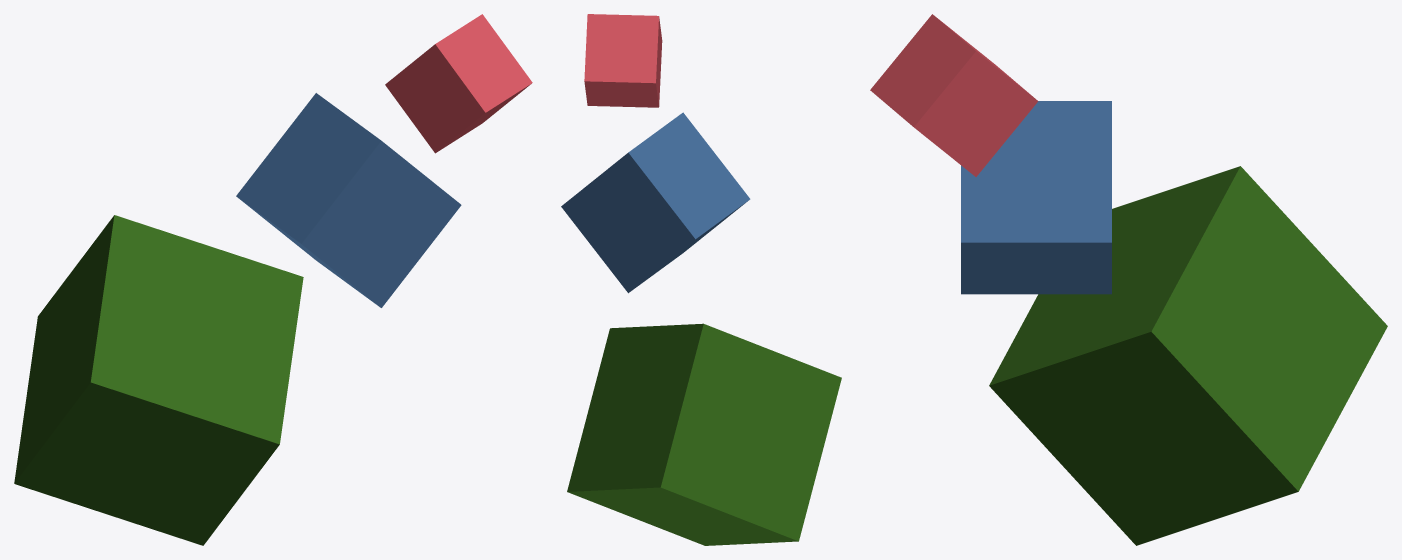
Rendered from magic_damage.glb.
3 renders of one model, left to right at view 1: azimuth 30°, elevation 25°; view 2: azimuth 150°, elevation 25°; view 3: azimuth 270°, elevation 25°, orthographic. The views are drawn at different scales.
Parts seen in each view (by area): view 1: Cube; view 2: Cube; view 3: Cube.
Part boxes in pixels (x1,y1,x2,y2): Cube: (14, 14, 532, 545); Cube: (561, 14, 841, 545); Cube: (870, 14, 1387, 545).
Size of the model in its own units: 3.86 by 5.12 by 3.92.
3 materials, 3 textured.
